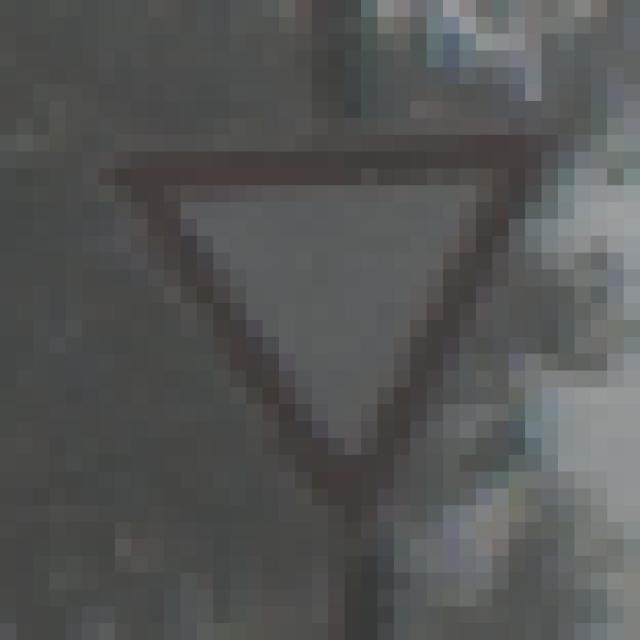Give Way: (83, 102, 543, 540)
